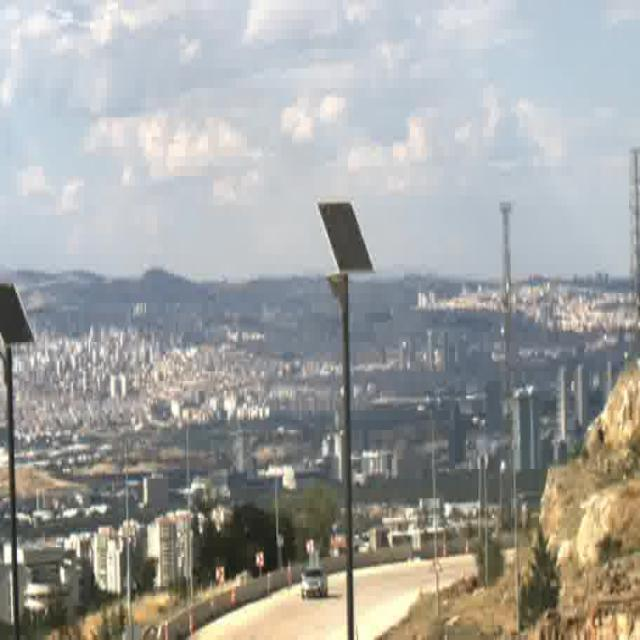Car: (300, 566, 327, 598)
